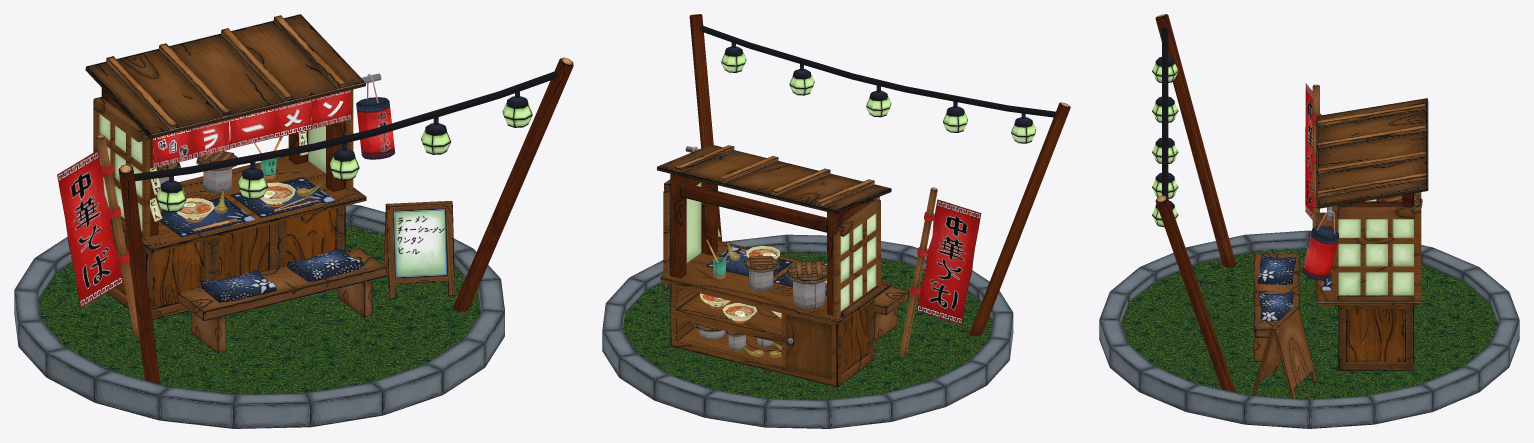
File: stall.glb
The picture shows the model from 3 angles, left to right: view 1: azimuth 30°, elevation 25°; view 2: azimuth 150°, elevation 25°; view 3: azimuth 270°, elevation 25°; orthographic projection. The views are drawn at different scales.
Visible parts, largest first — view 1: StallMesh; view 2: StallMesh; view 3: StallMesh.
Part boxes in pixels (left/top/right/bottom): StallMesh: left=14, top=14, right=573, bottom=428; StallMesh: left=602, top=14, right=1070, bottom=428; StallMesh: left=1099, top=14, right=1519, bottom=428.
Size of the model in its own units: 3.34 by 1.94 by 3.15.
Materials: 2 (2 with a texture image).
